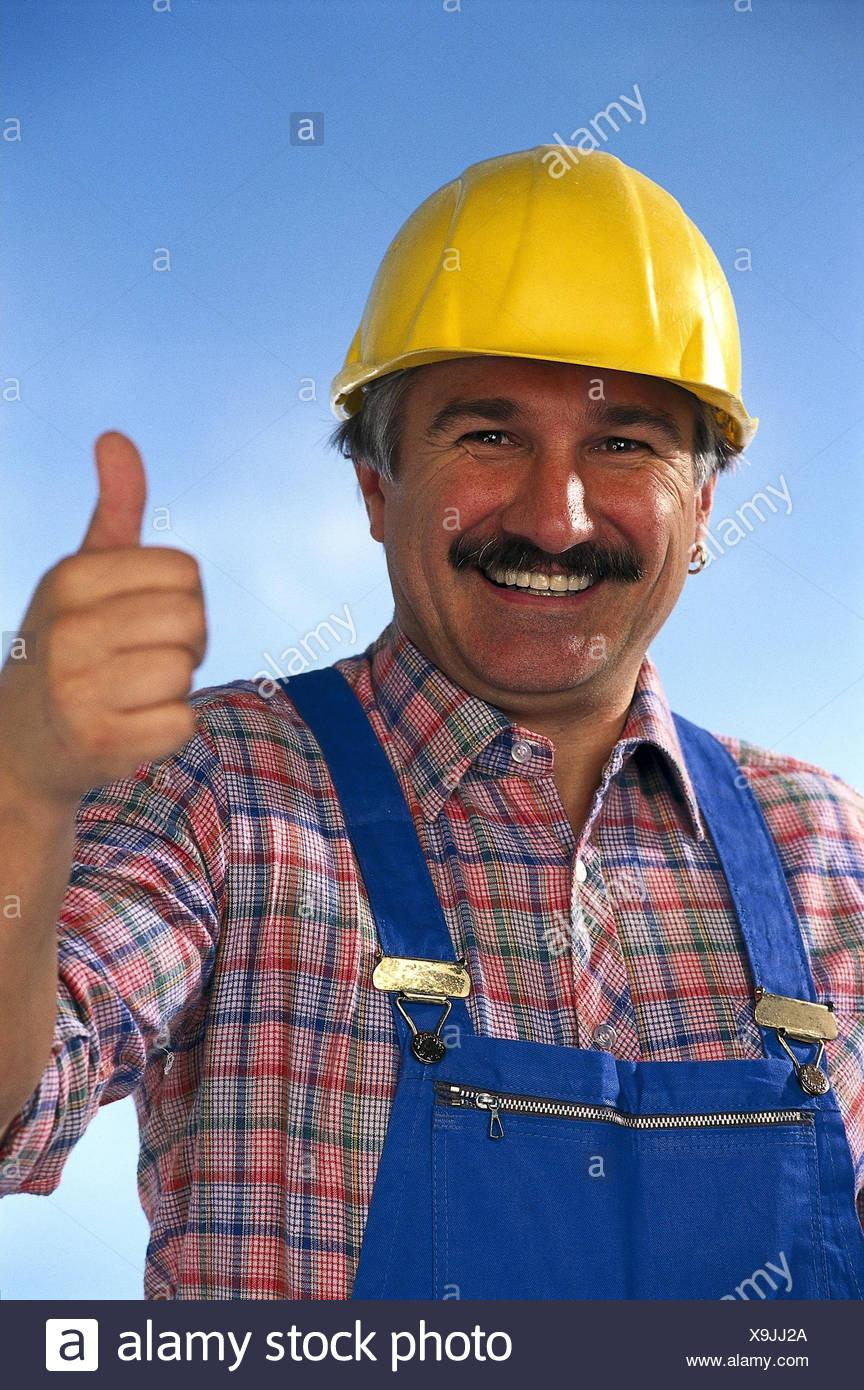helmet: (332, 142, 769, 438)
